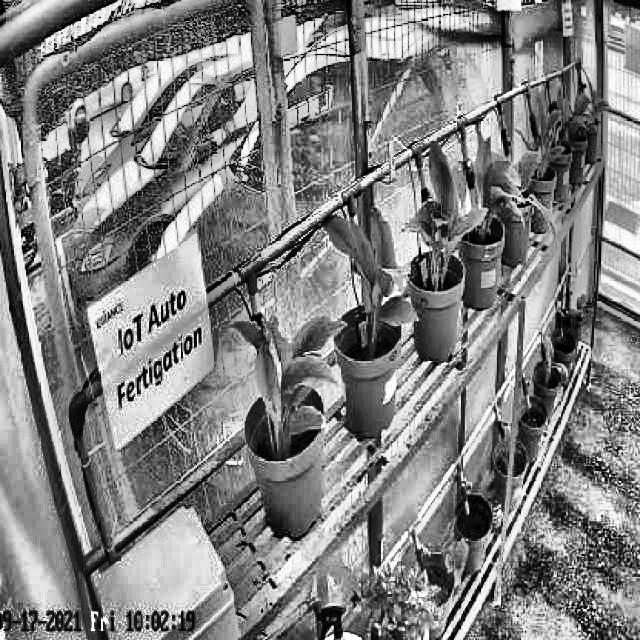plants: (229, 306, 343, 459), (316, 200, 419, 360), (453, 134, 556, 264), (404, 142, 486, 302)
